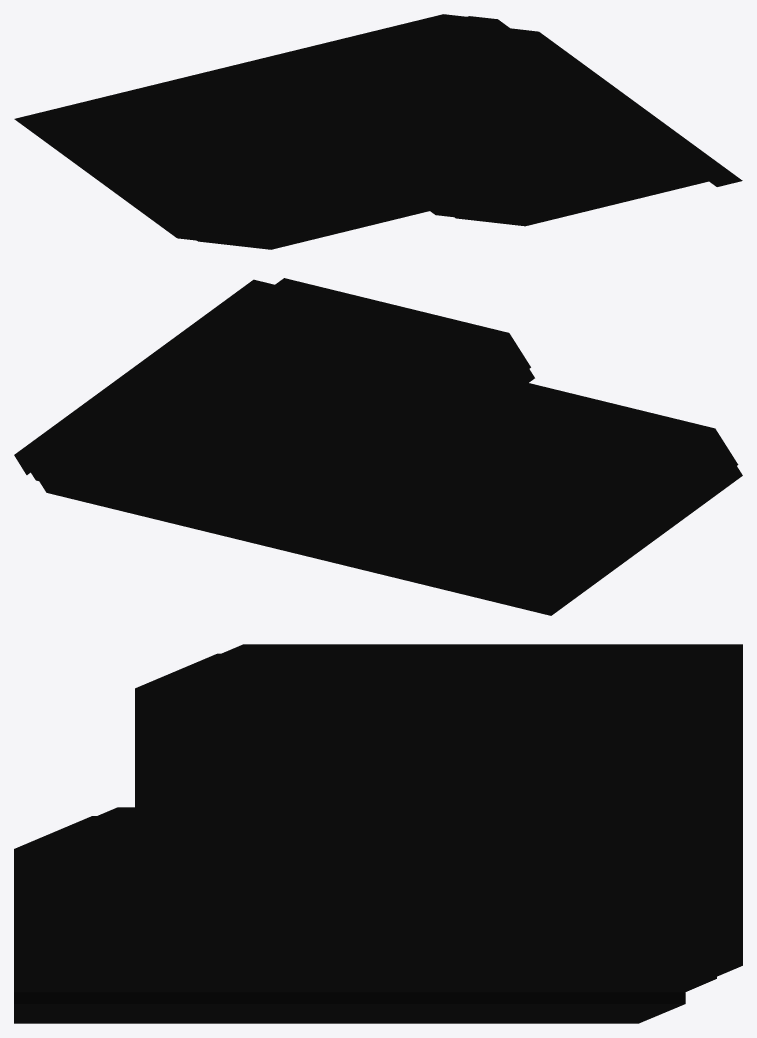
3 views of the same model, one above another, from view 1: azimuth 30°, elevation 25°; view 2: azimuth 150°, elevation 25°; view 3: azimuth 270°, elevation 25° (orthographic). The views are drawn at different scales.
Visible parts, largest first — view 1: Joint_0_Object_0; view 2: Joint_0_Object_0; view 3: Joint_0_Object_0.
Boxes of the visible parts, <box> form: Joint_0_Object_0: <box>14,14,742,249</box>; Joint_0_Object_0: <box>14,278,742,615</box>; Joint_0_Object_0: <box>14,644,742,1023</box>.
Size of the model in its own units: 1738 by 26 by 1458.
1 material, 1 textured.
